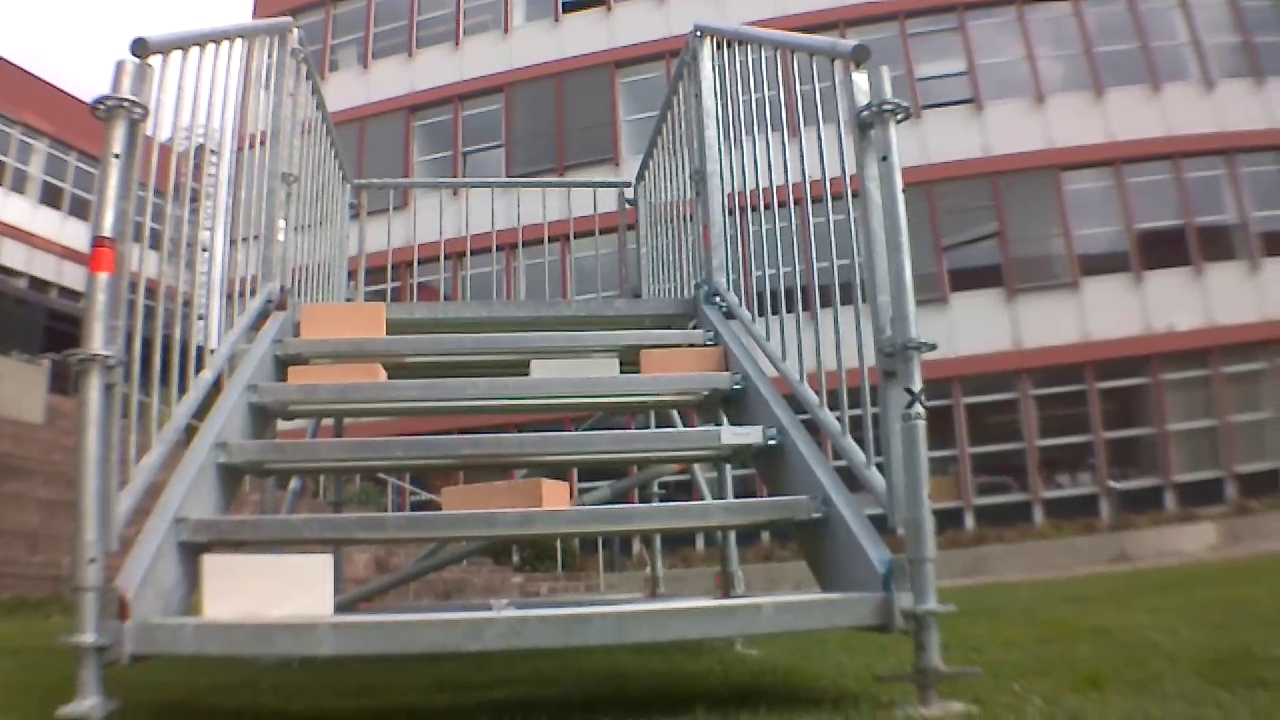brick: (199, 551, 338, 618), (436, 476, 573, 510), (298, 298, 385, 336), (278, 361, 385, 386), (639, 344, 727, 374), (528, 358, 621, 377)
edge: (138, 595, 892, 653), (174, 497, 824, 543), (220, 423, 780, 461), (244, 369, 746, 406), (270, 333, 720, 355), (302, 295, 700, 318)
stairs: (83, 12, 941, 682)
steps: (133, 293, 892, 662)
